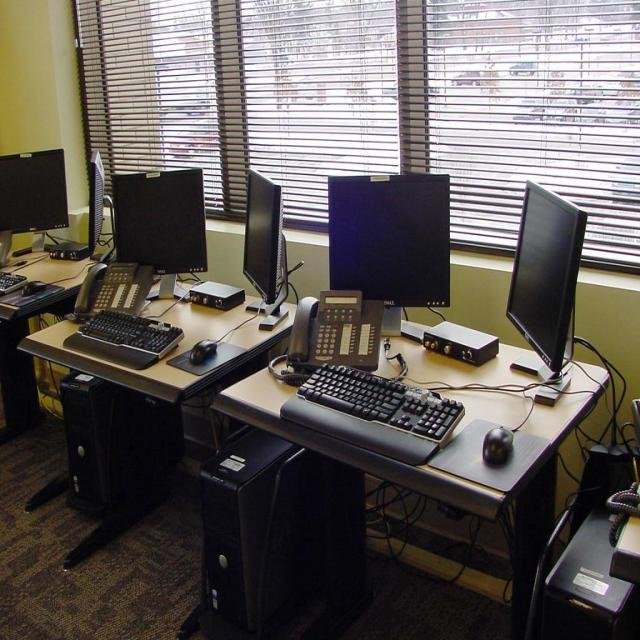others: (1, 134, 640, 640)
